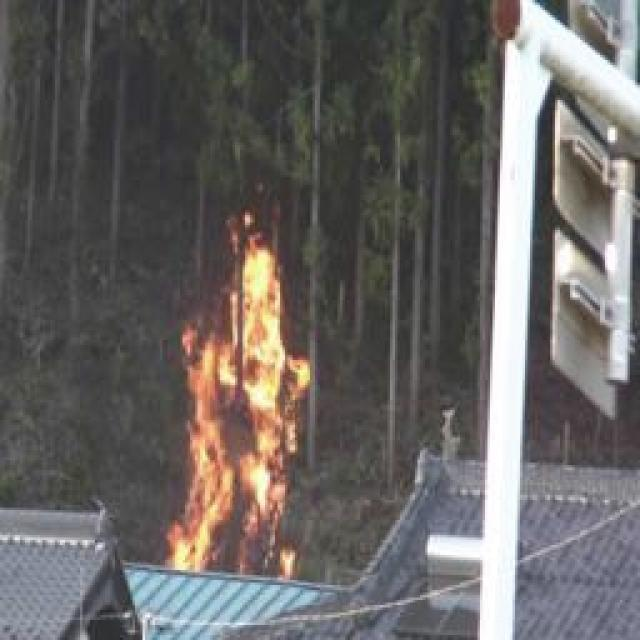fire: (157, 196, 316, 581)
